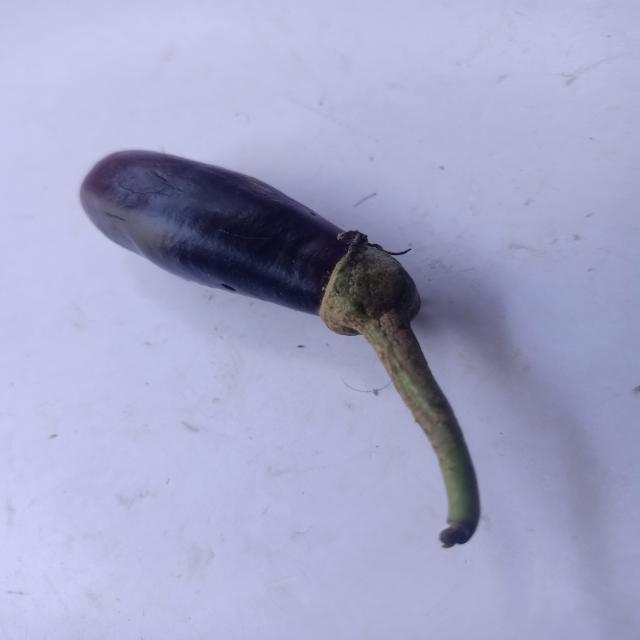Brinjal: (48, 127, 540, 557)
